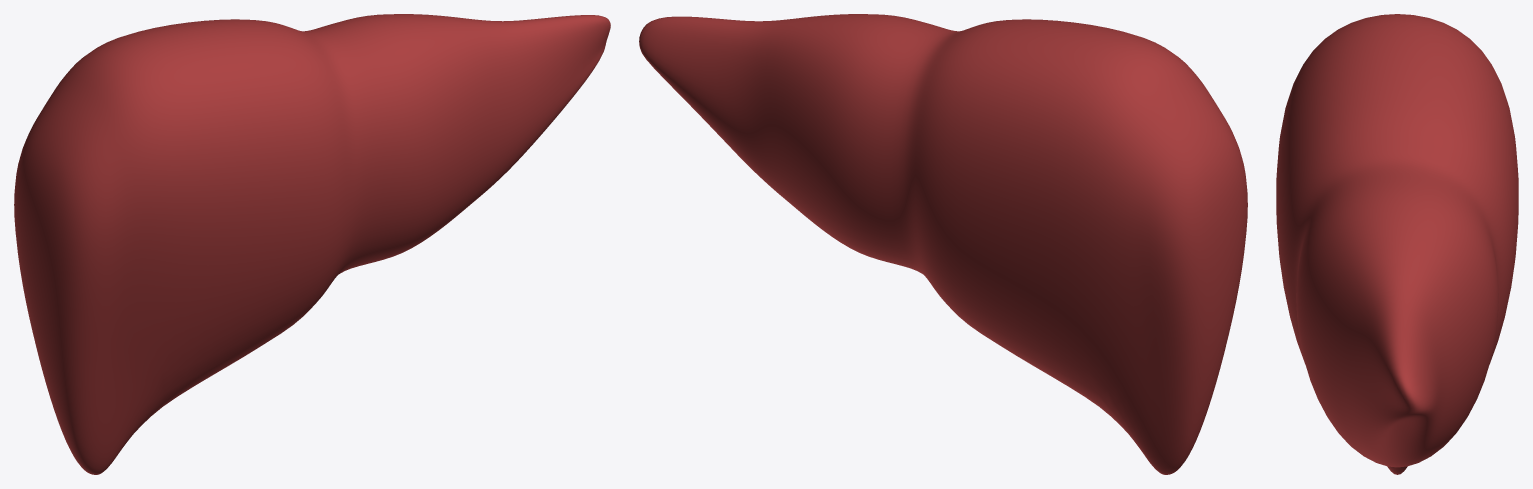
File: human liver.fbx
3 renders of one model, left to right at view 1: azimuth 30°, elevation 25°; view 2: azimuth 150°, elevation 25°; view 3: azimuth 270°, elevation 25°, orthographic. The views are drawn at different scales.
Parts seen in each view (by area): view 1: pCube1; view 2: pCube1; view 3: pCube1.
Part boxes in pixels (x1=…): pCube1: x1=14, y1=14, x2=610, y2=474; pCube1: x1=639, y1=14, x2=1247, y2=474; pCube1: x1=1276, y1=14, x2=1518, y2=474.
Bounding box in the file's own units: 4.18 × 2.88 × 1.32.
